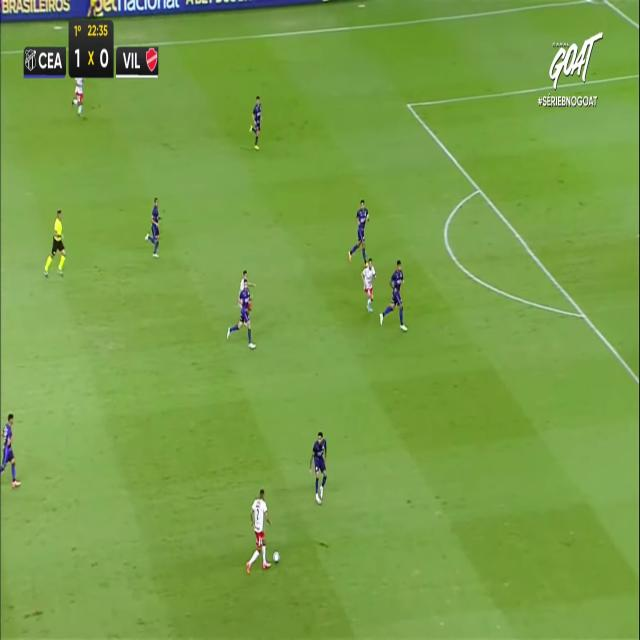ball: (273, 550, 279, 563)
player: (226, 273, 255, 349), (246, 487, 271, 573), (379, 258, 407, 331), (1, 413, 21, 487), (348, 199, 369, 263), (309, 430, 327, 503), (144, 197, 161, 257), (361, 256, 376, 313), (249, 95, 262, 149), (72, 75, 85, 116)
referee: (44, 209, 66, 277)
